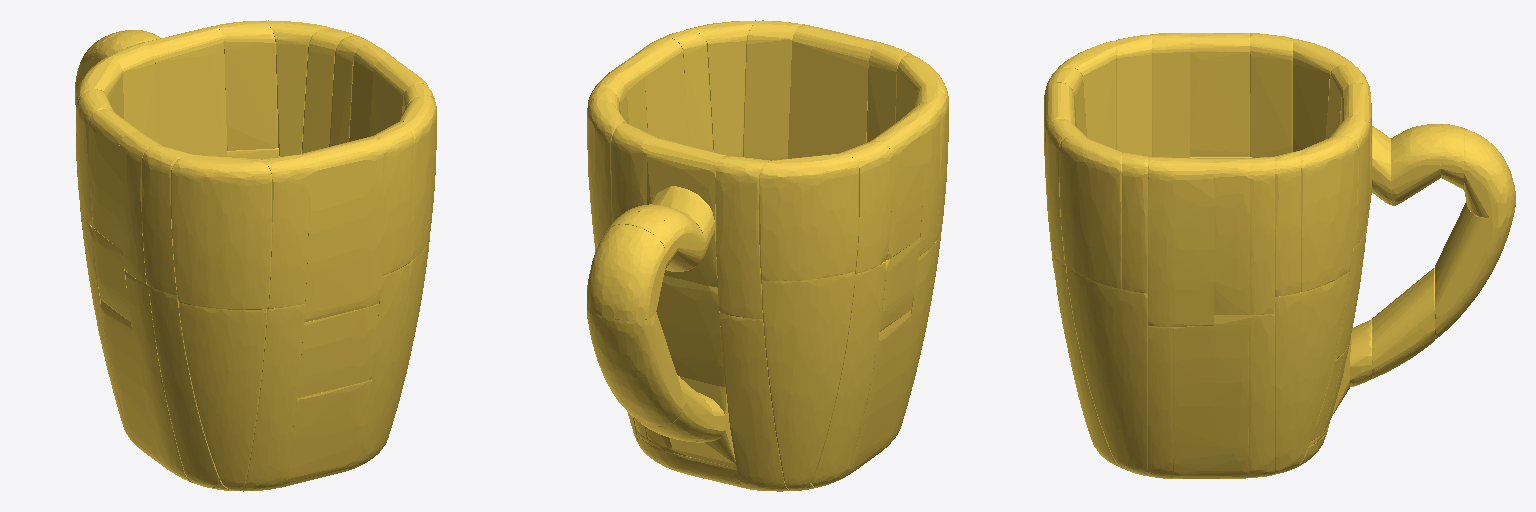
The robot description file, URDF, robot "256.urdf":
<?xml version="1.0" ?>
<robot name="256.urdf">
	<link name="baseLink">
		<inertial>
			<origin rpy="0 0 0" xyz="0 0 0"/>
				<mass value="0.1"/>
				<inertia ixx="6e-5" ixy="0" ixz="0" iyy="6e-5" iyz="0" izz="6e-5"/>
		</inertial>
		<visual>
			<origin rpy="0 0 0" xyz="0 0 0"/>
			<geometry>
				<mesh filename="14_decom_wt.obj" scale="0.90 0.90 0.90"/>
			</geometry>
			<material name="yellow">
				<color rgba="0.98 0.84 0.35 1"/>
			</material>
		</visual>
		<collision>
			<origin rpy="0 0 0" xyz="0 0 0"/>
			<geometry>
				<mesh filename="14_decom_wt.obj" scale="0.90 0.90 0.90"/>
			</geometry>
		</collision>
	</link>
</robot>

--- Facts derived from the render (not from the file) ---
The picture shows the robot from 3 angles, left to right: view 1: azimuth 30°, elevation 25°; view 2: azimuth 150°, elevation 25°; view 3: azimuth 270°, elevation 25°; orthographic projection.
Robot: 256.urdf — 1 links, 0 joints (none); root link baseLink; default pose: all joints at 0.
Visible links, largest first — view 1: baseLink; view 2: baseLink; view 3: baseLink.
Boxes of the visible links, left/top/right/bottom form: baseLink: left=75, top=20, right=436, bottom=491; baseLink: left=587, top=20, right=948, bottom=491; baseLink: left=1044, top=33, right=1515, bottom=478.
Size in the robot's own frame: 0.0884 by 0.1272 by 0.101 metres.
1 mesh visuals loaded from 1 distinct referenced files (1 OBJ).